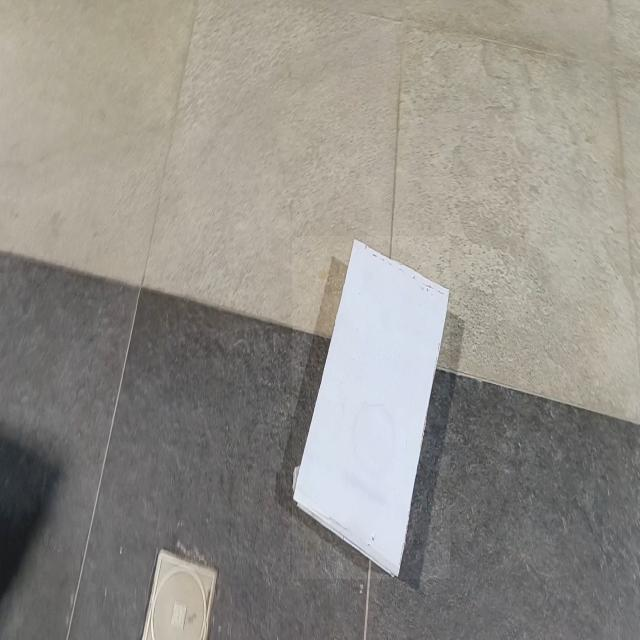Cuboid: (292, 236, 450, 579)
